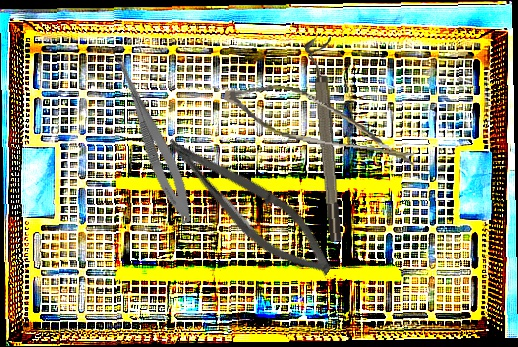Fixation Ring: (303, 37, 346, 243)
Micro Scissor: (149, 125, 348, 290), (218, 78, 427, 166), (102, 47, 201, 227)
